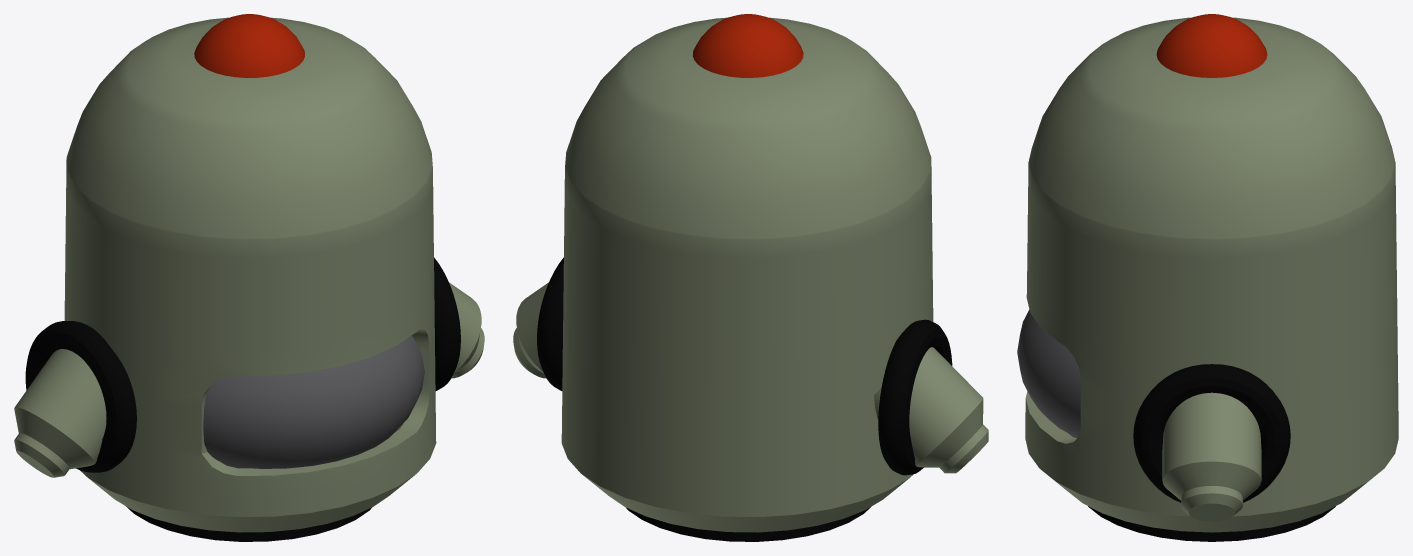
File: Guardtron.fbx
3 renders of one model, left to right at view 1: azimuth 30°, elevation 25°; view 2: azimuth 150°, elevation 25°; view 3: azimuth 270°, elevation 25°, orthographic.
Parts seen in each view (by area): view 1: Head; view 2: Head; view 3: Head.
Boxes of the visible parts, bbox=[...] form: Head: bbox=[14, 14, 484, 541]; Head: bbox=[513, 14, 988, 541]; Head: bbox=[1017, 14, 1398, 541].
Bounding box in the file's own units: 285 × 284 × 204.
